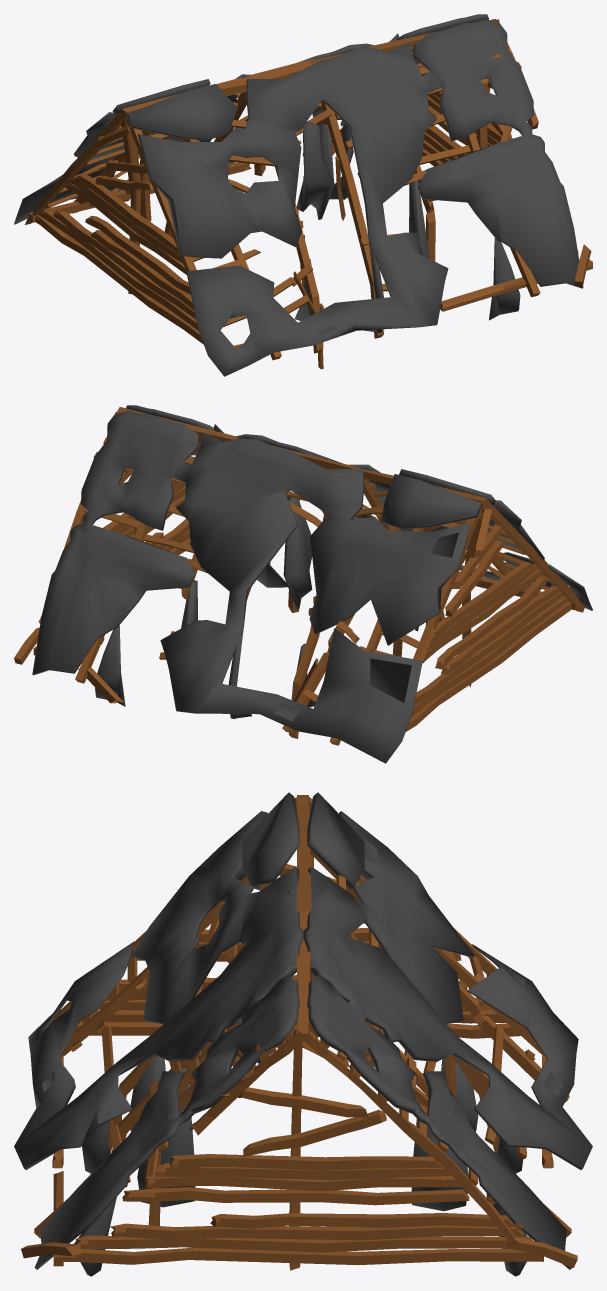
Rendered from Rotting Roof Lower Poly.fbx.
3 renders of one model, top to bottom at view 1: azimuth 30°, elevation 25°; view 2: azimuth 150°, elevation 25°; view 3: azimuth 270°, elevation 25°, orthographic. The views are drawn at different scales.
Parts seen in each view (by area): view 1: Rotten Roof; view 2: Rotten Roof; view 3: Rotten Roof.
Part boxes in pixels (x1,y1,x2,y2): Rotten Roof: (14,14,592,376); Rotten Roof: (14,405,592,763); Rotten Roof: (14,792,592,1276).
Size of the model in its own units: 5.63 by 3.37 by 5.52.
